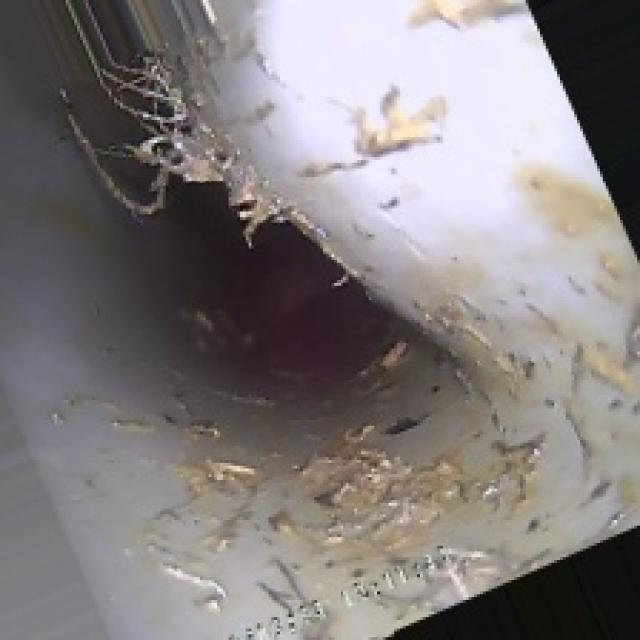shape_deformation: (86, 63, 523, 420)
